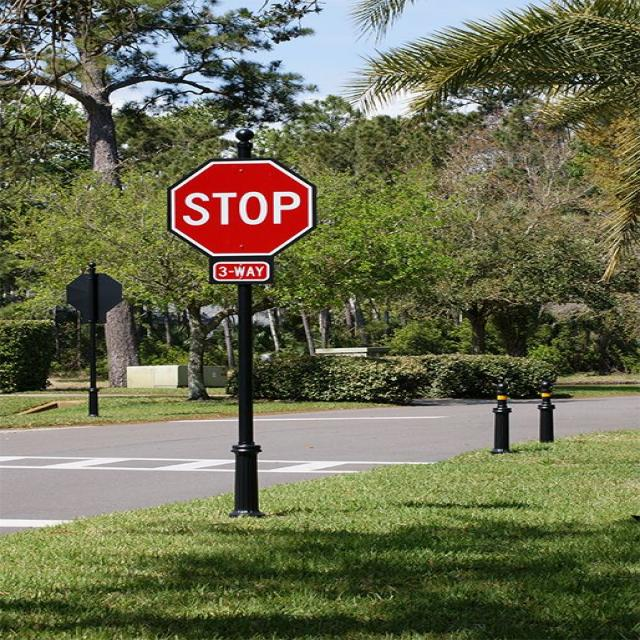stop-sign: (160, 165, 375, 264)
